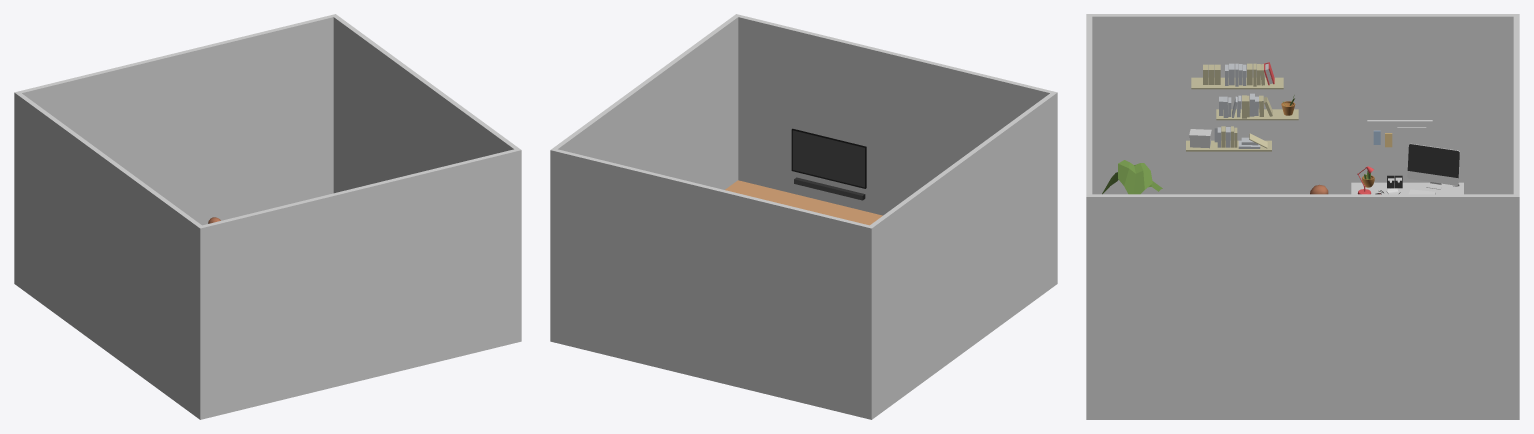
3 views of the same model, side by side, from view 1: azimuth 30°, elevation 25°; view 2: azimuth 150°, elevation 25°; view 3: azimuth 270°, elevation 25° (orthographic). The views are drawn at different scales.
Parts seen in each view (by area): view 1: Wall; view 2: Wall, TVShape, TVBenchShape, pCube22; view 3: Wall, polySurface54:PIV, polySurface34:PIV, pPlane6:PIV, ComputerDeskShape, ShelfShape, pCube25:PIV, polySurface33:PIV, pCube24:PIV, polySurface24:PIV.
Part boxes in pixels (x1=…): Wall: x1=14, y1=14, x2=521, y2=419; Wall: x1=550, y1=14, x2=1057, y2=419; TVShape: x1=791, y1=128, x2=866, y2=188; TVBenchShape: x1=725, y1=180, x2=882, y2=225; pCube22: x1=794, y1=177, x2=865, y2=200; Wall: x1=1086, y1=14, x2=1519, y2=419; polySurface54:PIV: x1=1407, y1=144, x2=1459, y2=178; polySurface34:PIV: x1=1367, y1=120, x2=1432, y2=153; pPlane6:PIV: x1=1102, y1=160, x2=1162, y2=194; ComputerDeskShape: x1=1351, y1=182, x2=1463, y2=194; ShelfShape: x1=1191, y1=77, x2=1283, y2=89; pCube25:PIV: x1=1216, y1=109, x2=1298, y2=120; polySurface33:PIV: x1=1397, y1=127, x2=1426, y2=147; pCube24:PIV: x1=1186, y1=140, x2=1271, y2=151; polySurface24:PIV: x1=1407, y1=143, x2=1460, y2=185.
Size of what is drawn, in the model's own units: 20.71 by 11.78 by 20.75.
